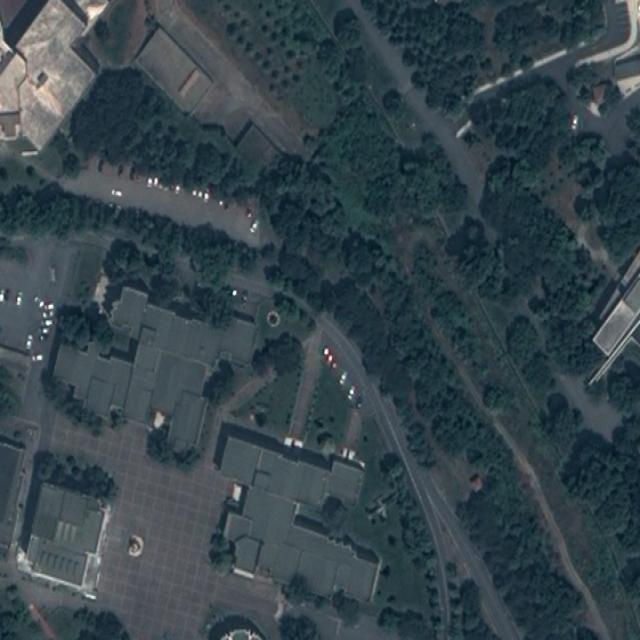Batiment: (54, 289, 255, 452), (220, 436, 379, 601), (0, 2, 91, 148), (28, 483, 104, 585)
